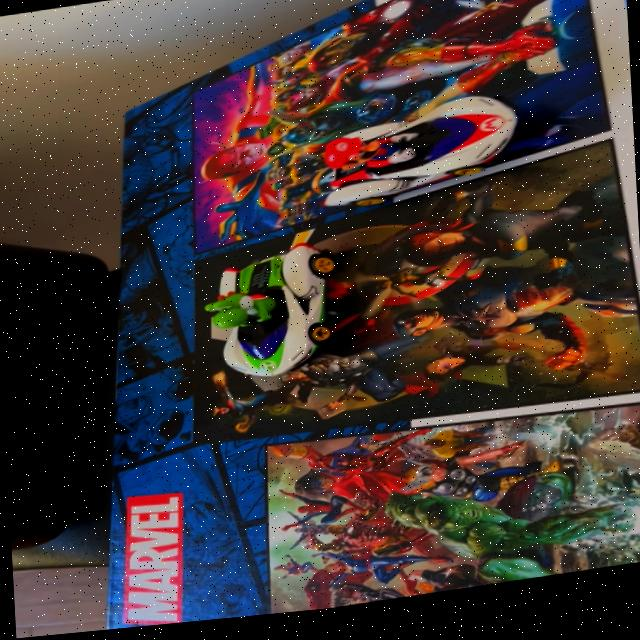mario: (301, 98, 540, 220)
yoshi: (193, 236, 357, 405)
